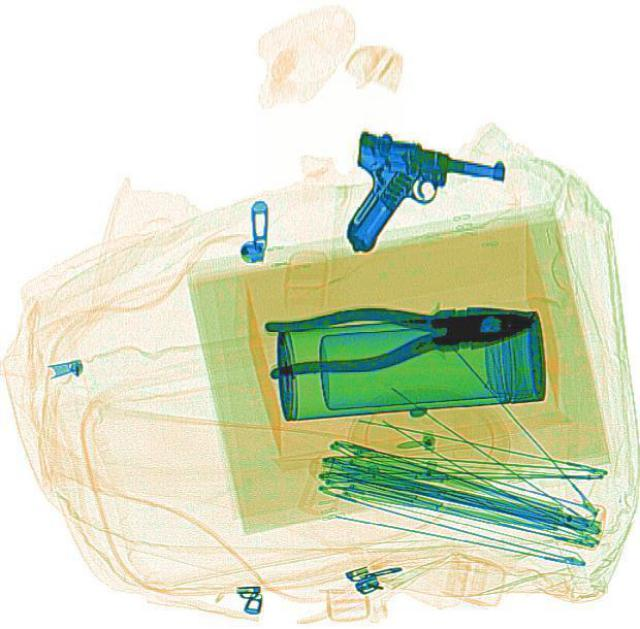Gun: (328, 126, 508, 275)
Pliers: (260, 287, 540, 380)
